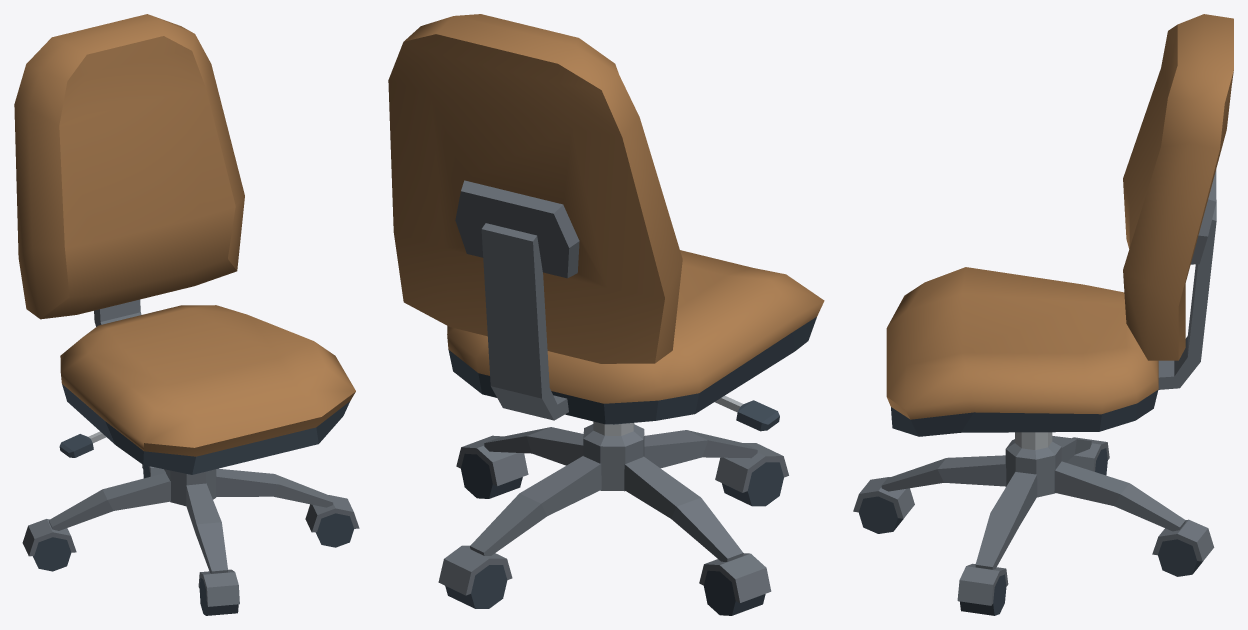
File: File_Cabinet_03.FBX
3 renders of one model, left to right at view 1: azimuth 30°, elevation 25°; view 2: azimuth 150°, elevation 25°; view 3: azimuth 270°, elevation 25°, orthographic. The views are drawn at different scales.
Parts seen in each view (by area): view 1: Chair_02; view 2: Chair_02; view 3: Chair_02.
Boxes of the visible parts, x1,y1,x2,y2 form: Chair_02: [14, 14, 359, 615]; Chair_02: [388, 14, 824, 615]; Chair_02: [853, 14, 1233, 615].
Bounding box in the file's own units: 67.95 × 106 × 71.66.
